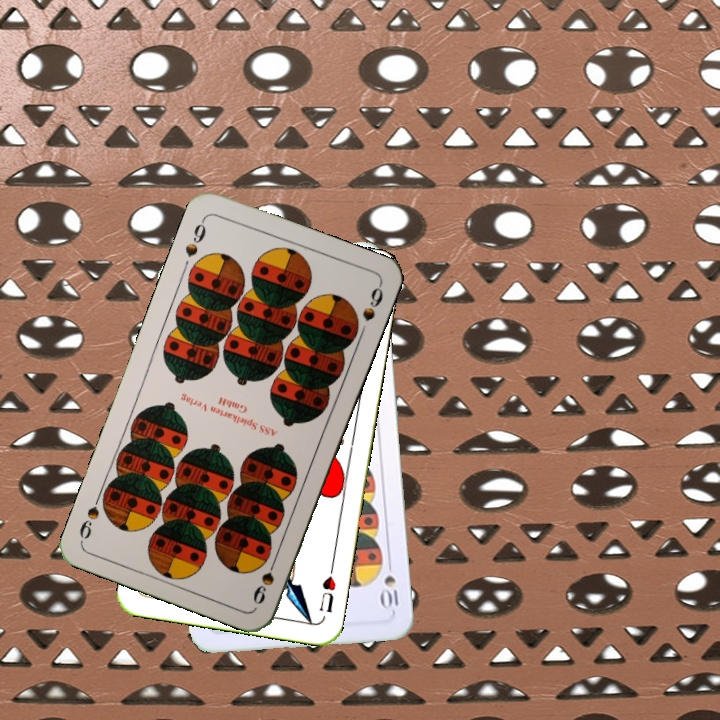HU: (315, 561, 339, 616)
S10: (379, 571, 401, 614)
S9: (249, 551, 281, 607), (181, 214, 209, 260)
